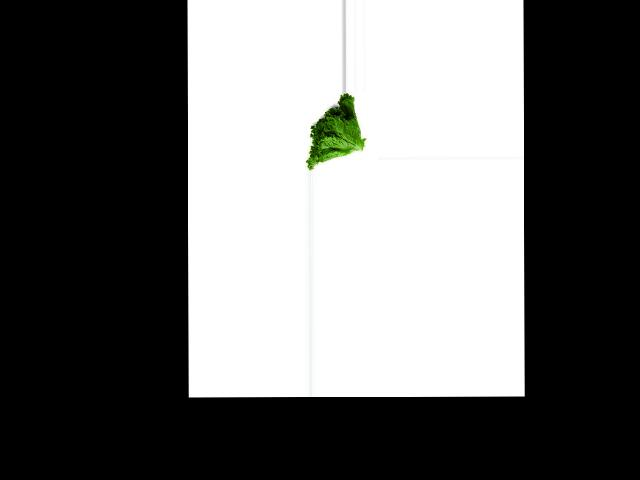lettuce: (304, 92, 364, 170)
